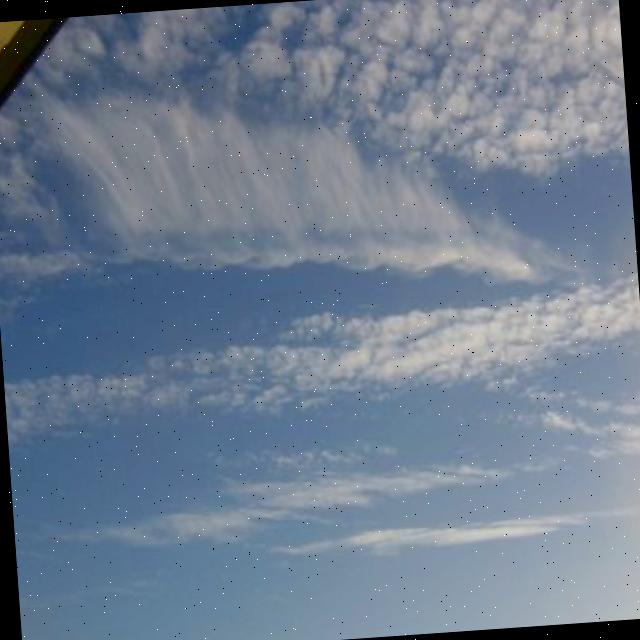Ci: (49, 45, 556, 342)
